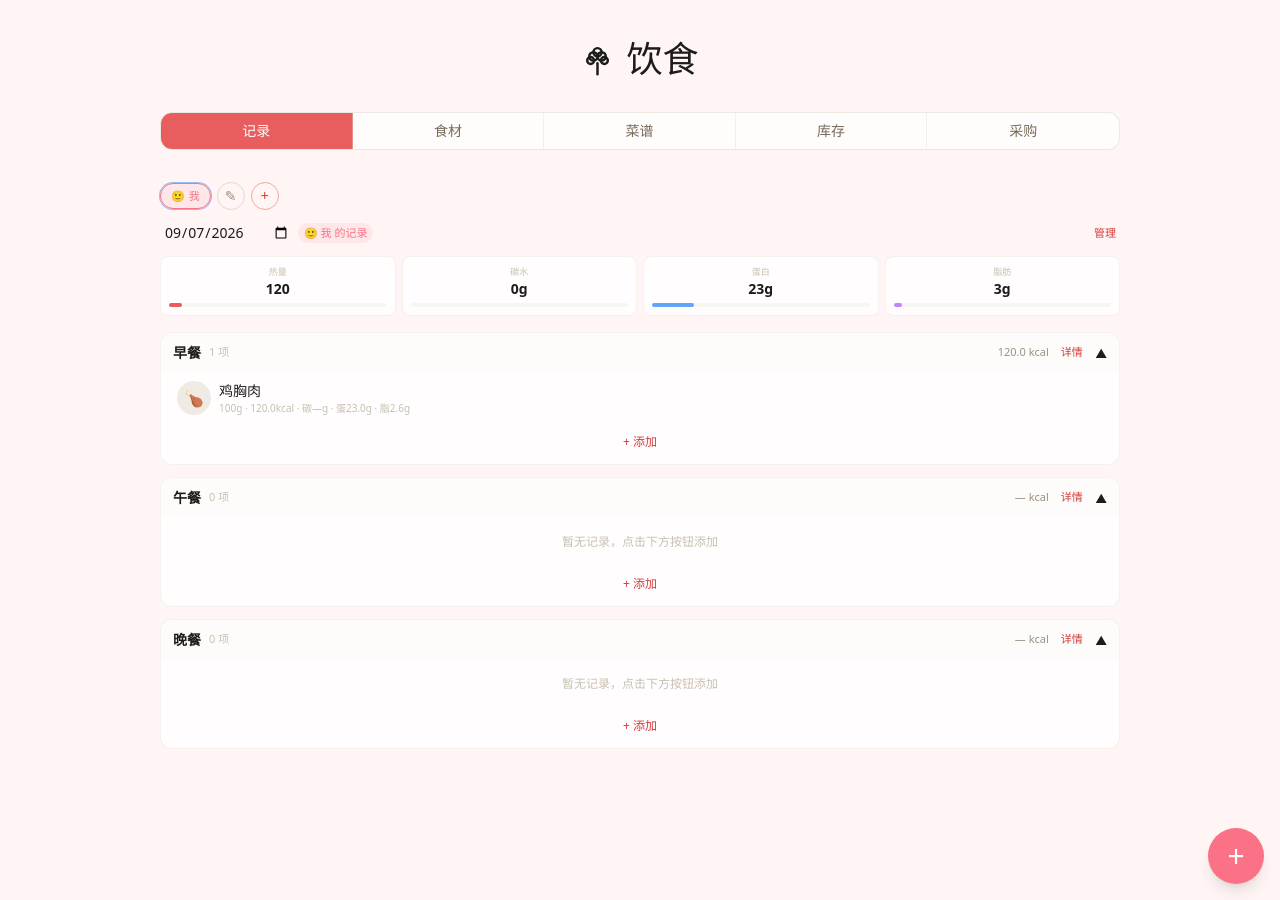
Test: 记录页修改食物 › 从餐次详情页点击食材也能打开编辑抽屉
Click the 1st button "详情".
click(1072, 353)  # box [1057, 344, 1087, 361]
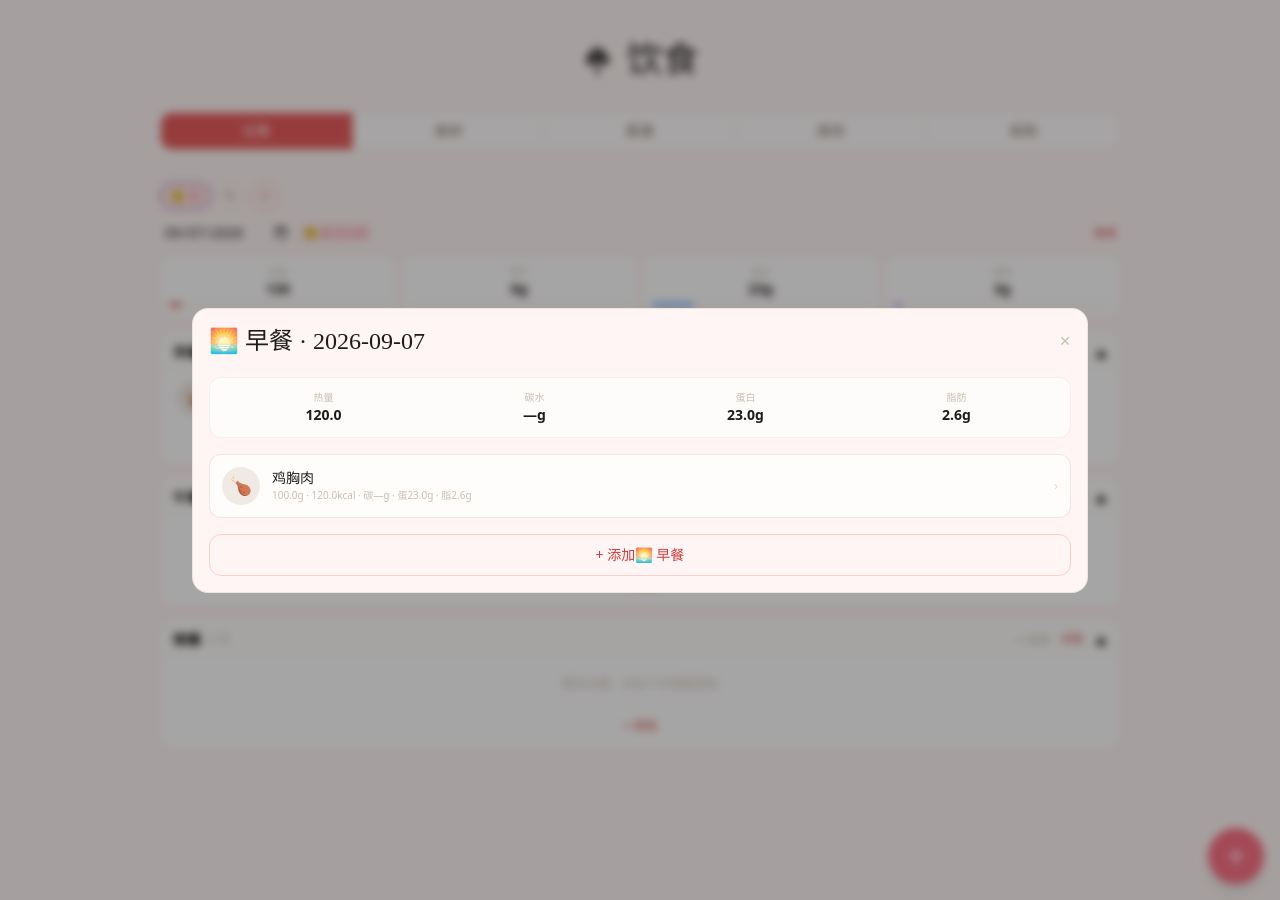
Result: the element with test id "detail-row" is shown
Click the element with test id "detail-row".
click(640, 486)  # box [209, 454, 1071, 518]
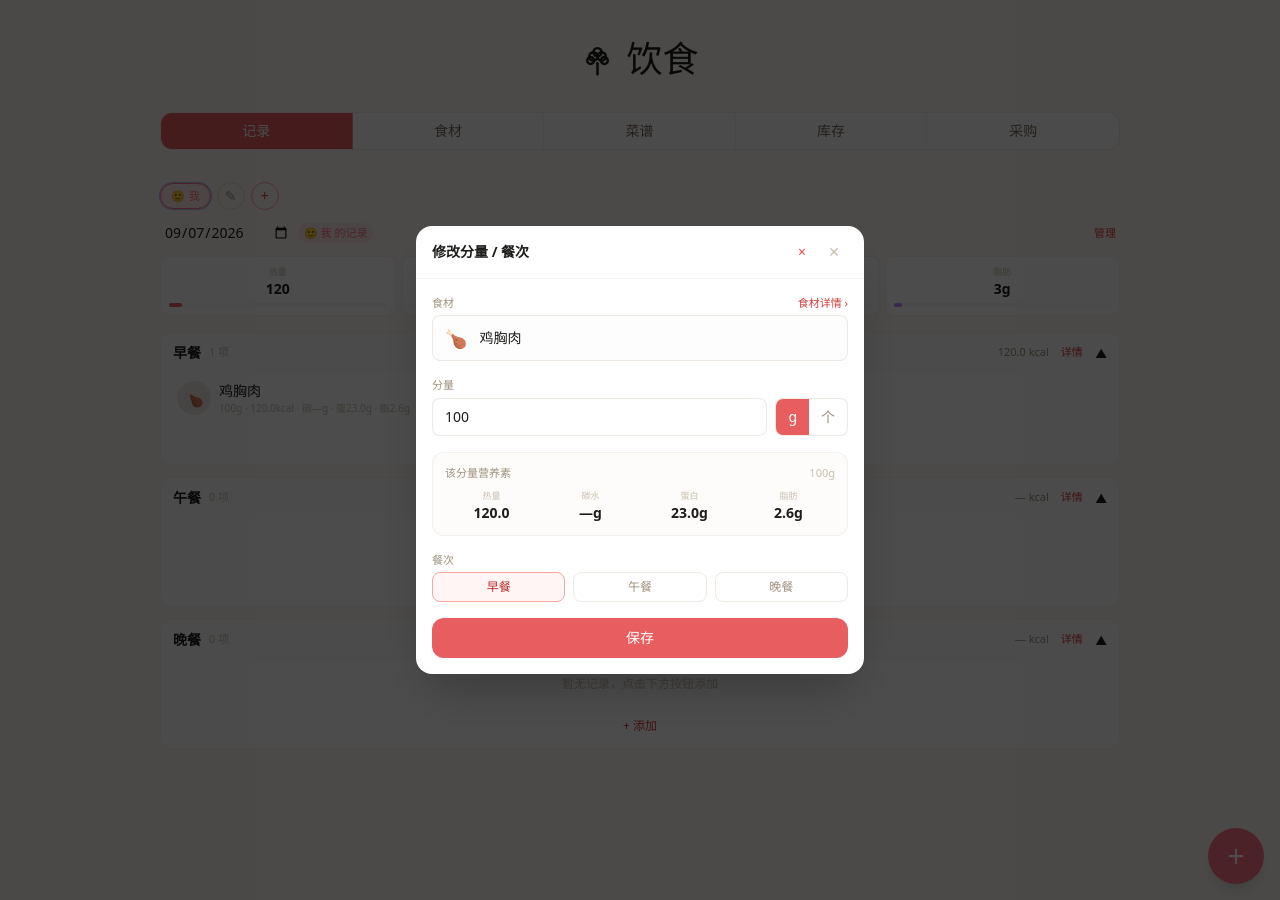
Result: the element with test id "edit-sheet" is shown
